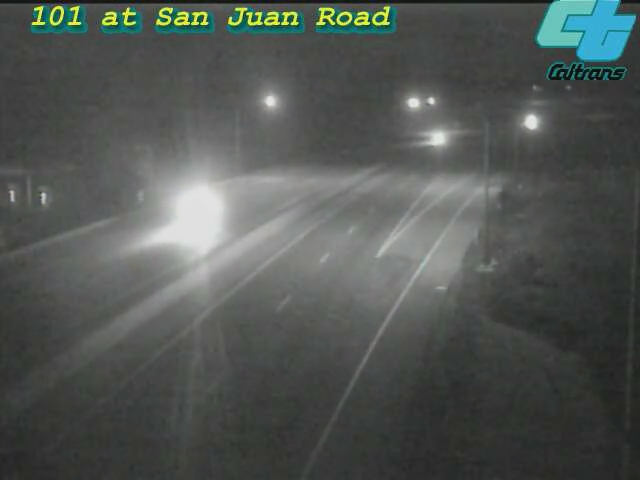vehicle: (158, 166, 238, 246), (413, 116, 463, 166), (506, 97, 556, 147)
